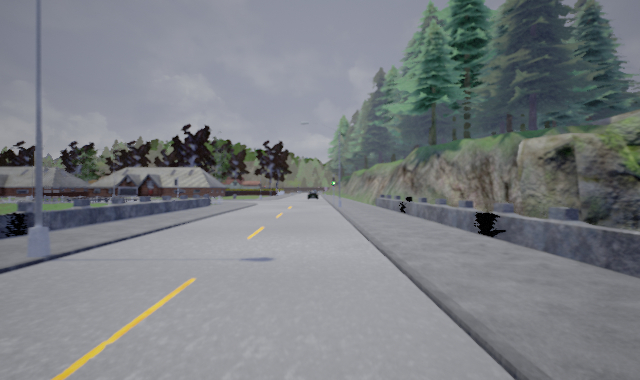traffic_light: (331, 176, 336, 186)
